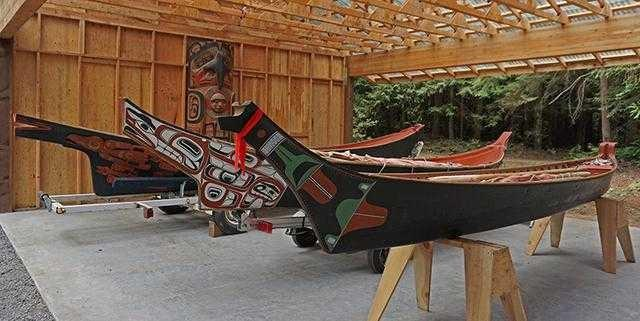kayak: (28, 101, 584, 244), (306, 142, 619, 251), (15, 96, 294, 216), (320, 128, 514, 177), (312, 122, 427, 156)
